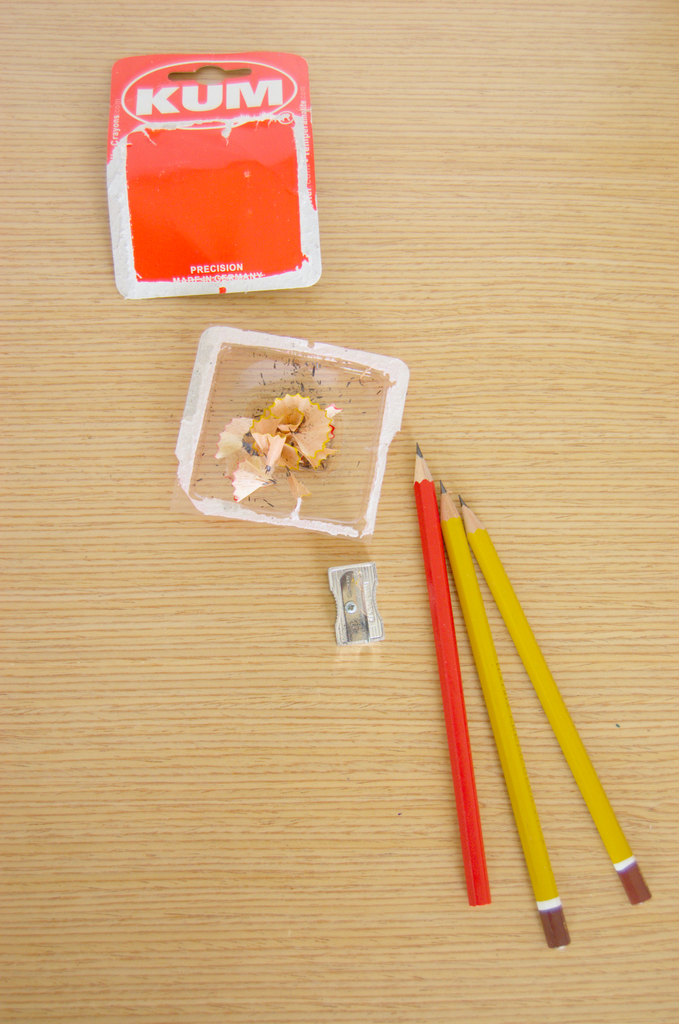sharpener: (323, 563, 384, 646)
